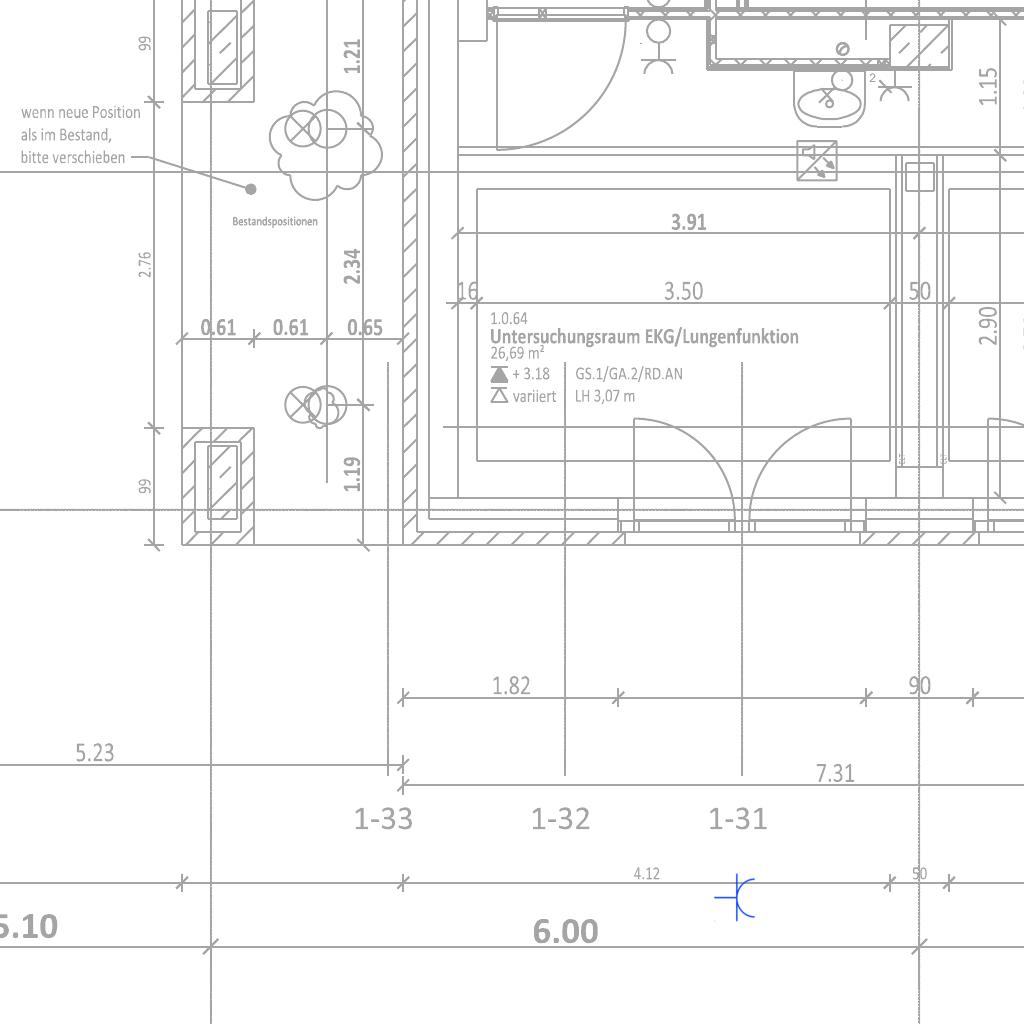Schukosteckdose_einfach: (714, 873, 757, 923)
